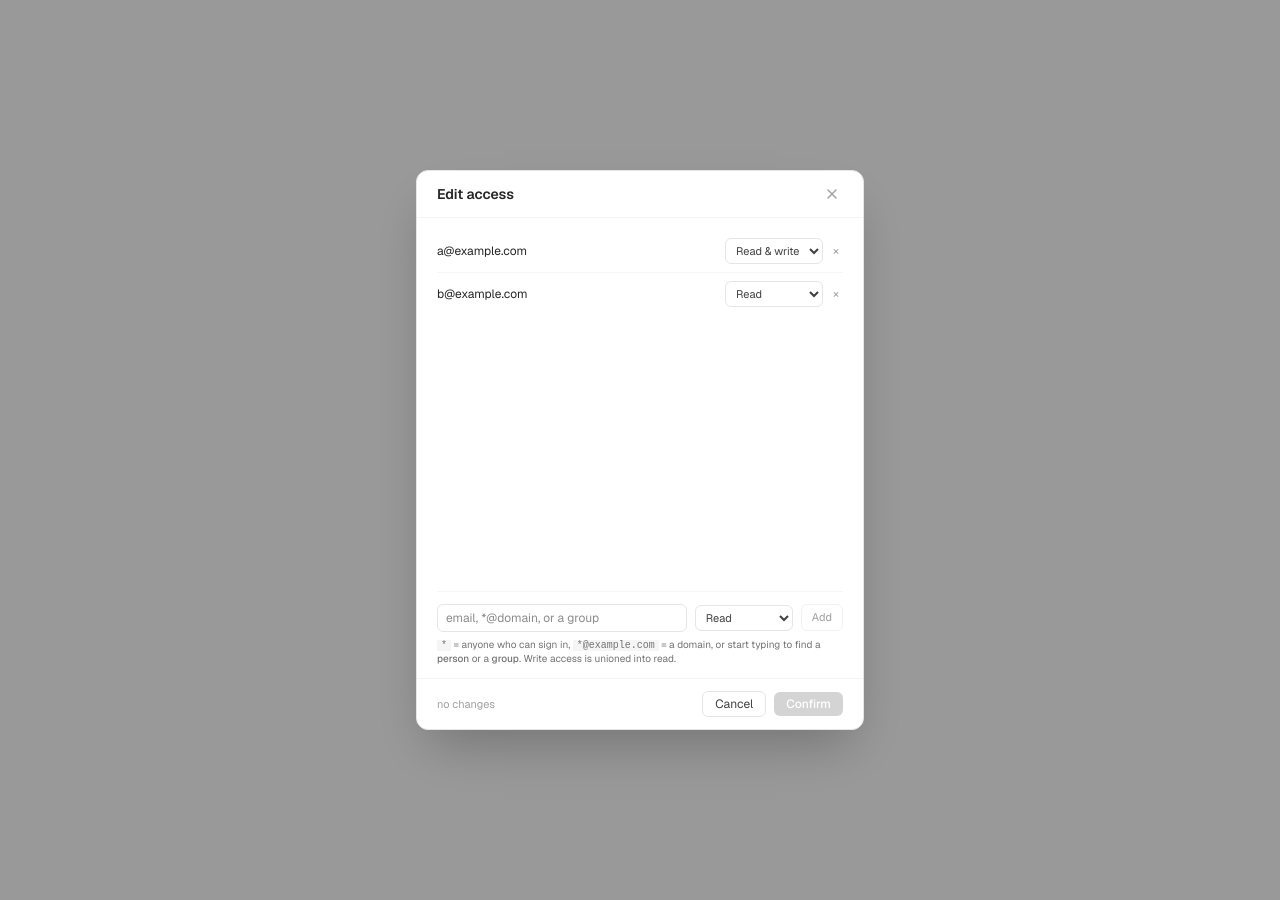
Scenario: AccessModal explicit commit › starts with Confirm disabled and PATCHes nothing on edit
expect the button "Confirm" is disabled: met, box [774,692,843,716]
Click the button "×" in the row of "a@example.com": coordinates (836, 251) [829,238,843,264]
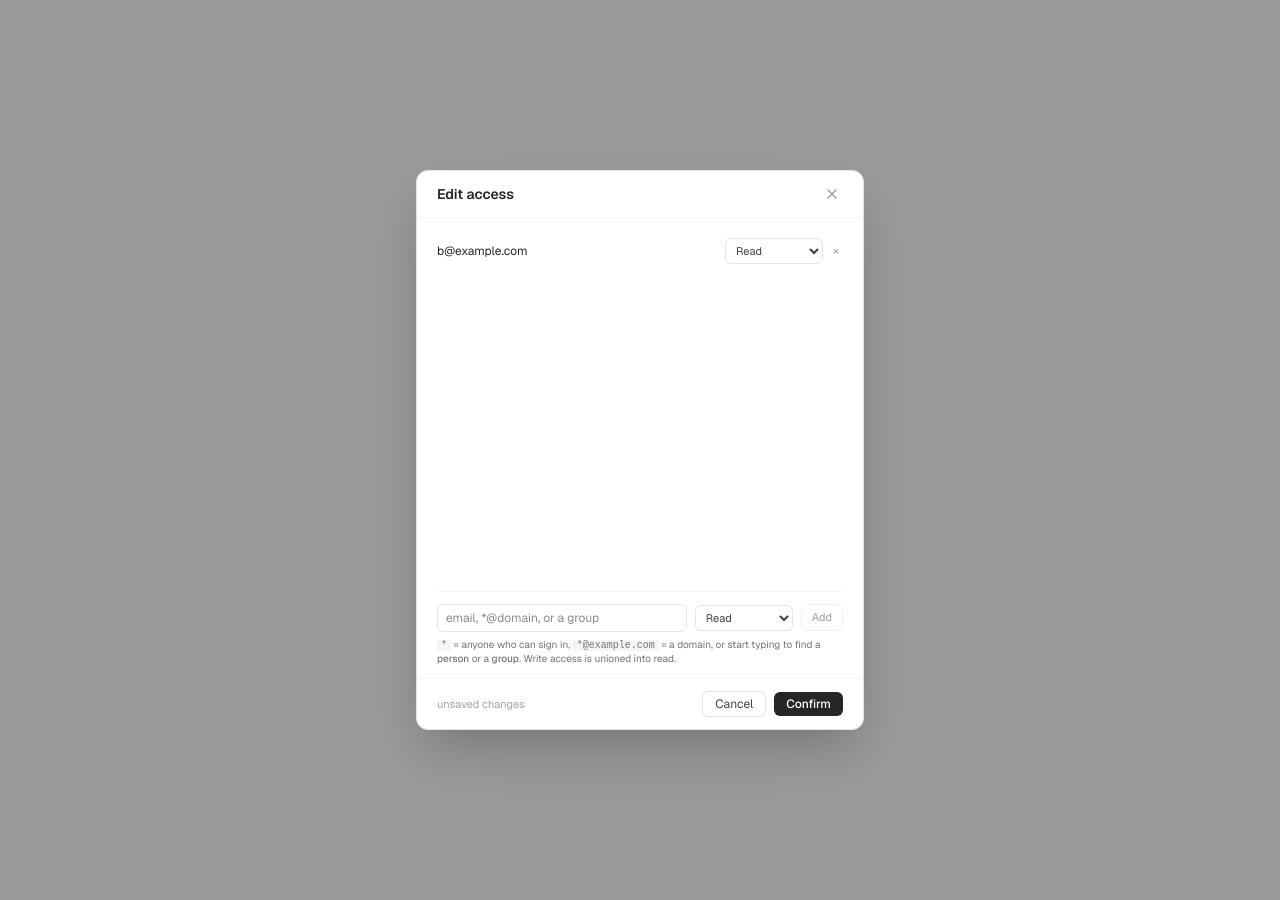
expect the button "Confirm" is enabled: met, box [774,692,843,716]
